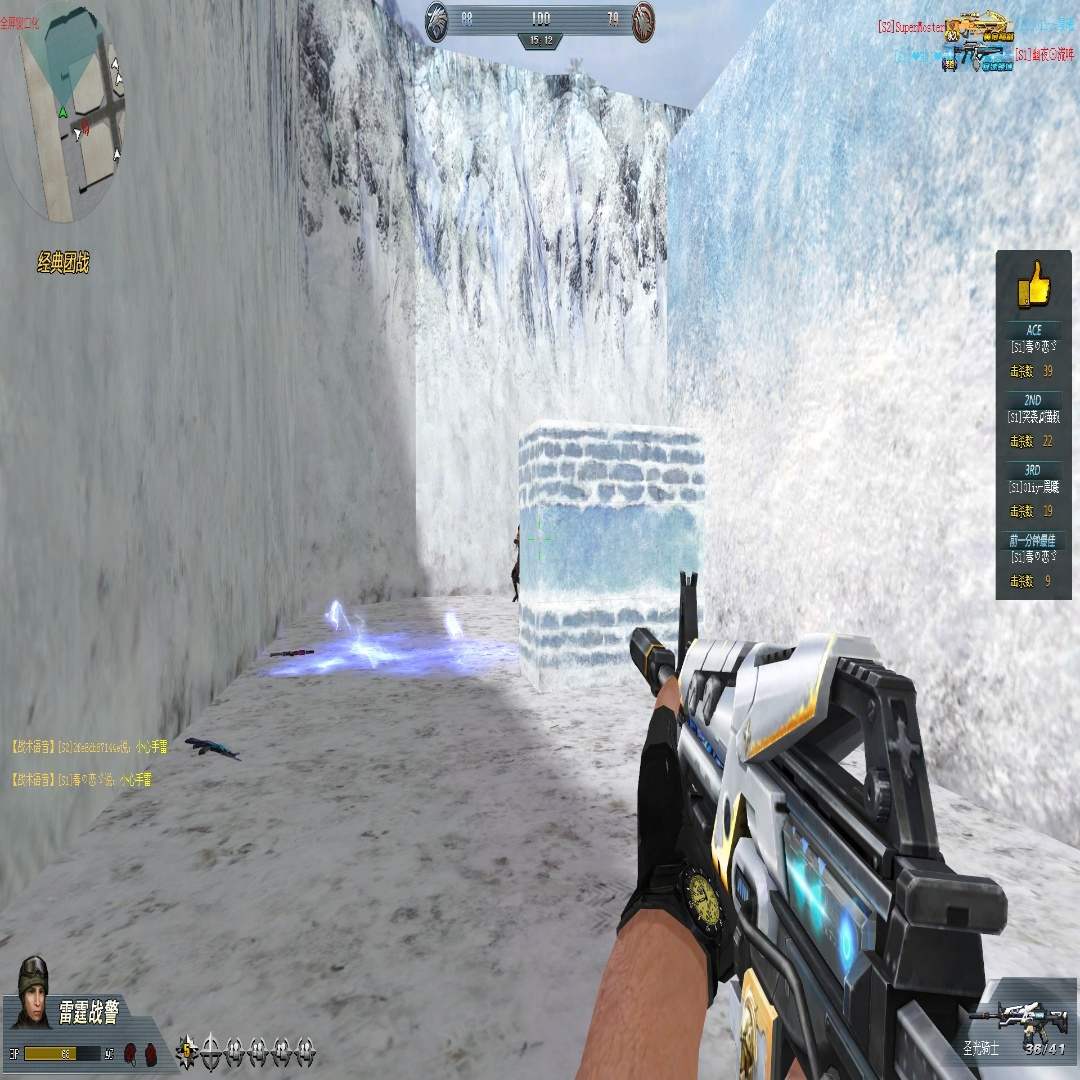t: (510, 522, 521, 606)
